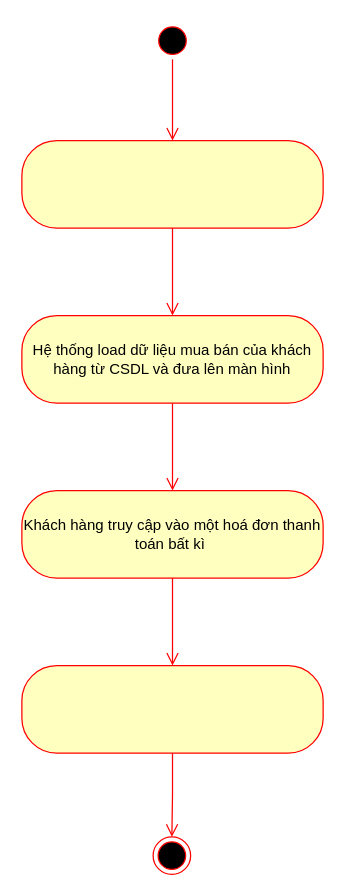
Image size: 345x896. Some labels were removed from this diagram. Each missing label, with the centre of its shape:
"Hệ thống load chi tiết hoá đơn của một hoá đơn lên một cửa số nhỏ trên màn hình" goes at (172,708).
"Khách hàng truy cập vào trang Lịch sử mua hàng" goes at (172,183).
